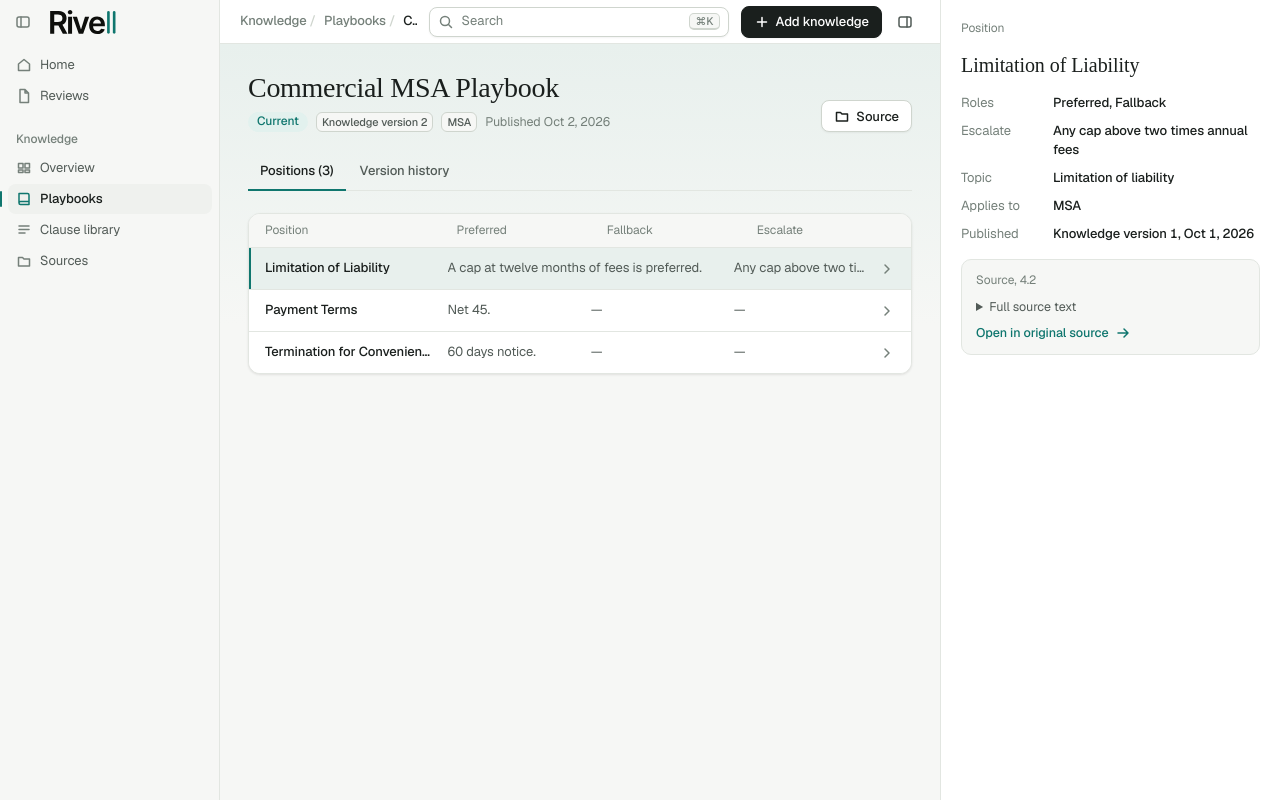
Scenario: Playbook detail › opens an older publication as its own immutable snapshot and returns to the current one
This screenshot has width=1280, height=800.
Expected: the heading "Commercial MSA Playbook" is shown, [248,72,610,104]
What coordinates should you click on to do the following:
click the tab "Version history"
I would click on:
 (404, 173)
Its box is [348,154,461,191].
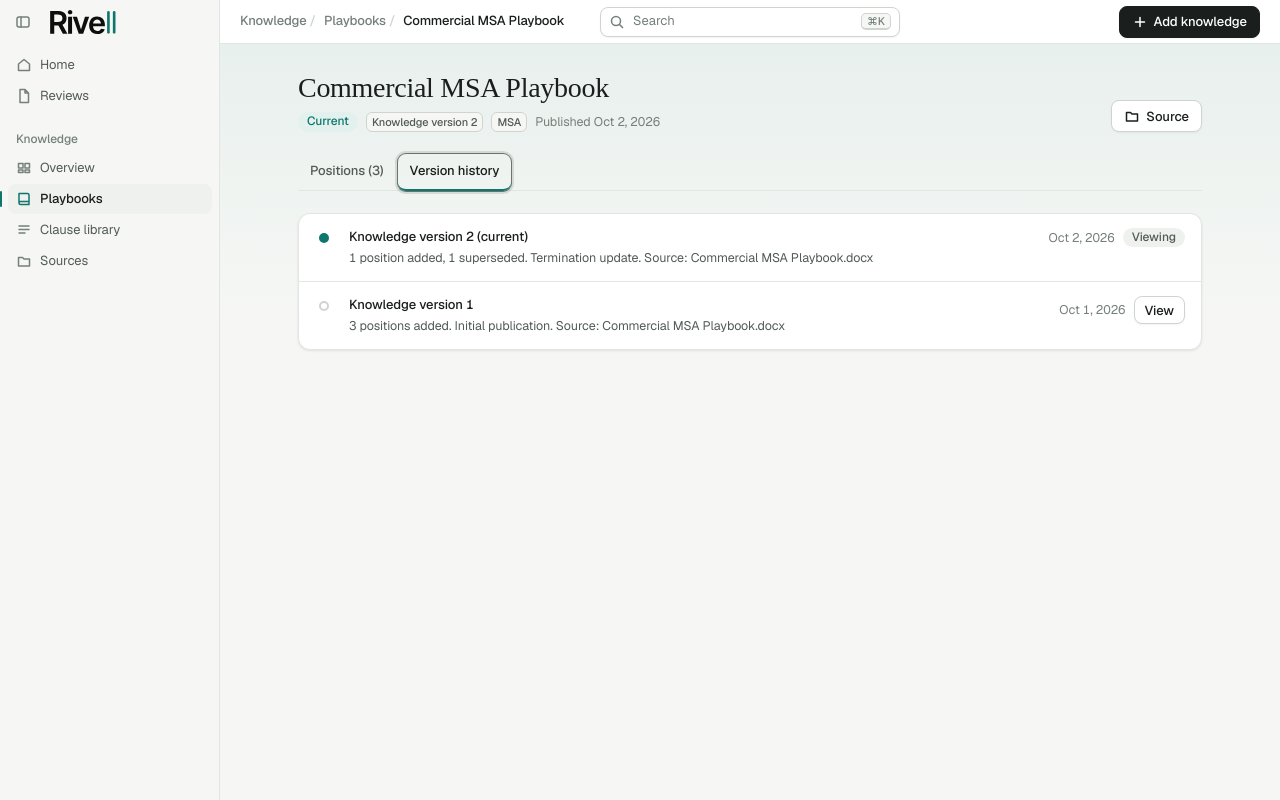
What coordinates should you click on to do the following:
click the button with aria-label "View knowledge version 1"
I would click on:
 (1159, 310)
Its box is [1134,296,1185,324].
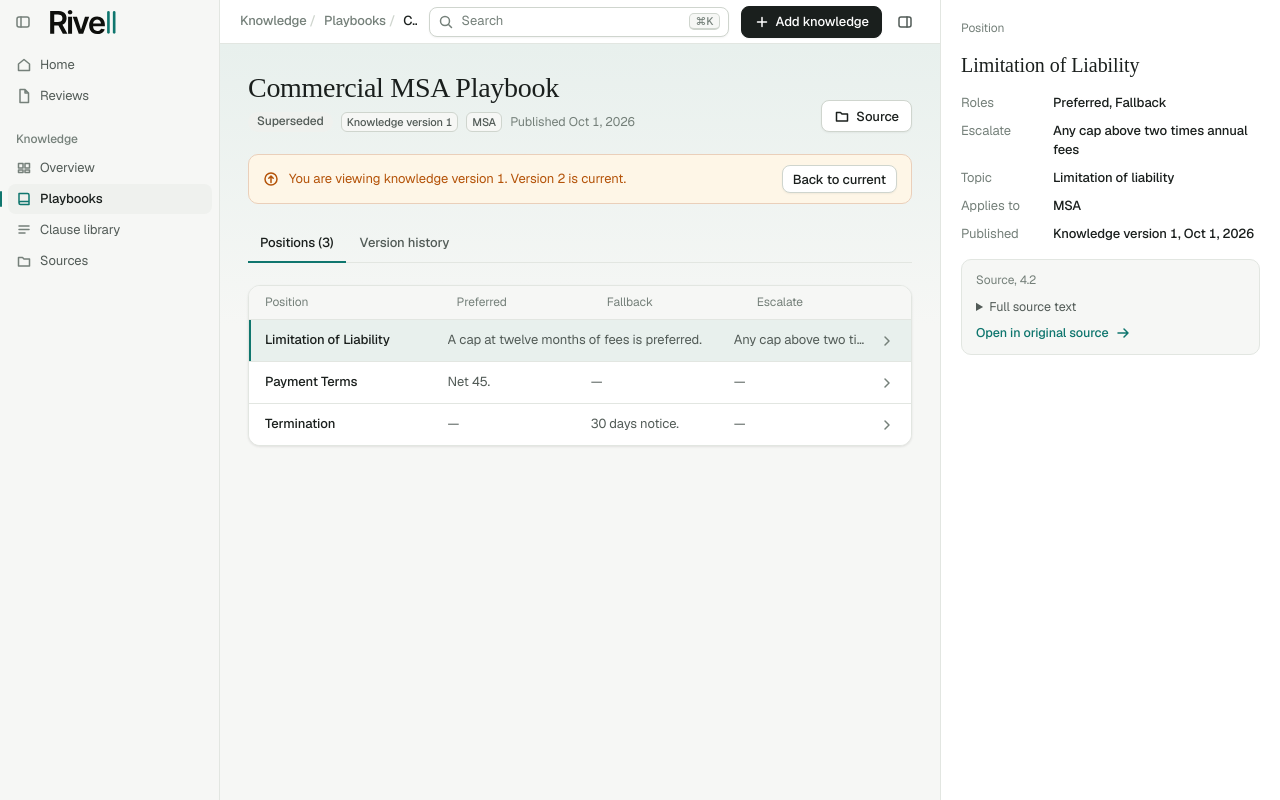
Expected: the element that starts with "You are viewing knowledge version" shows "You are viewing knowledge version 1. Version 2 is current.", [248,154,912,204]
Expected: the text "Superseded" is shown, [248,112,333,132]
What coordinates should you click on to do the following:
click the tab "Positions (3)"
I would click on:
 (297, 245)
Its box is [248,226,346,263].
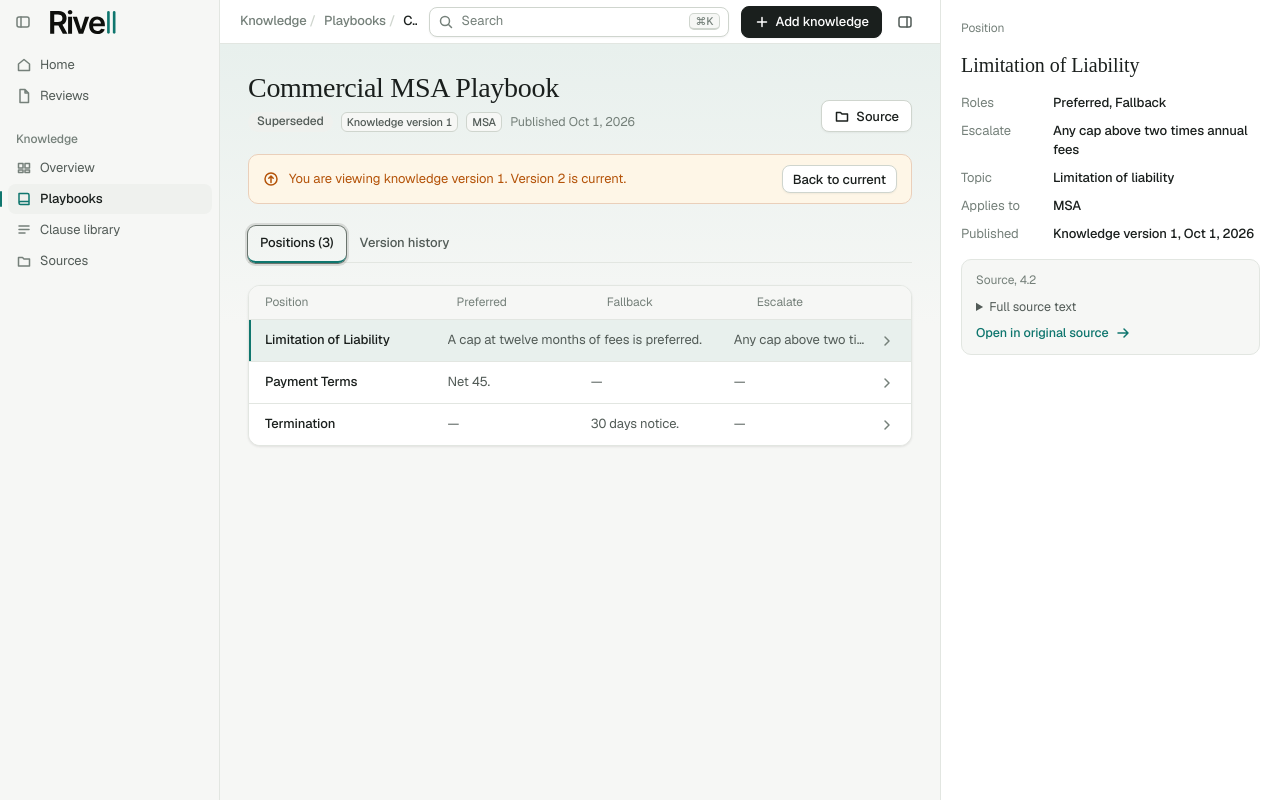
Expected: the button "Termination for Convenience" does not show "Termination for Convenience"
What coordinates should you click on to do the following:
click the button "Back to current"
I would click on:
 (839, 179)
Its box is [782,165,897,193].
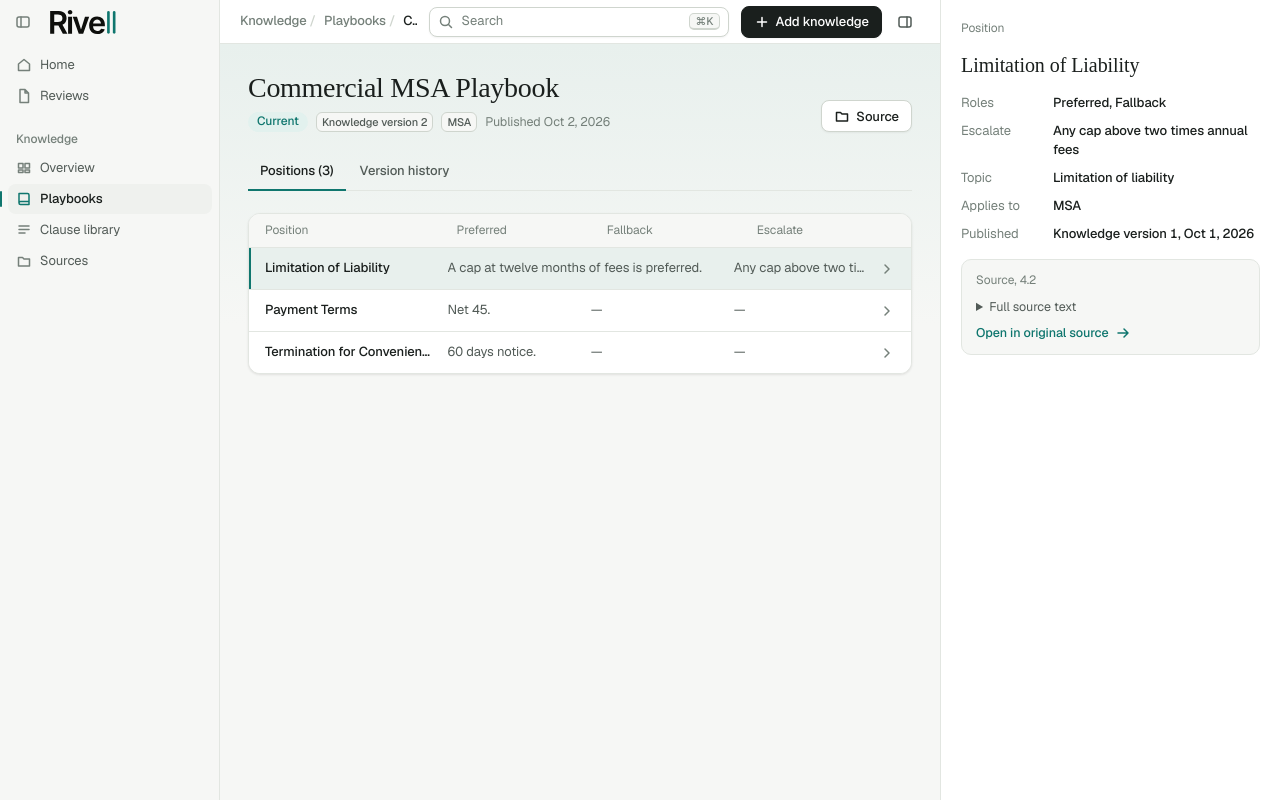
Expected: the text "Termination" is not shown
Expected: the text "Termination for Convenience" is shown, [265,343,436,362]
